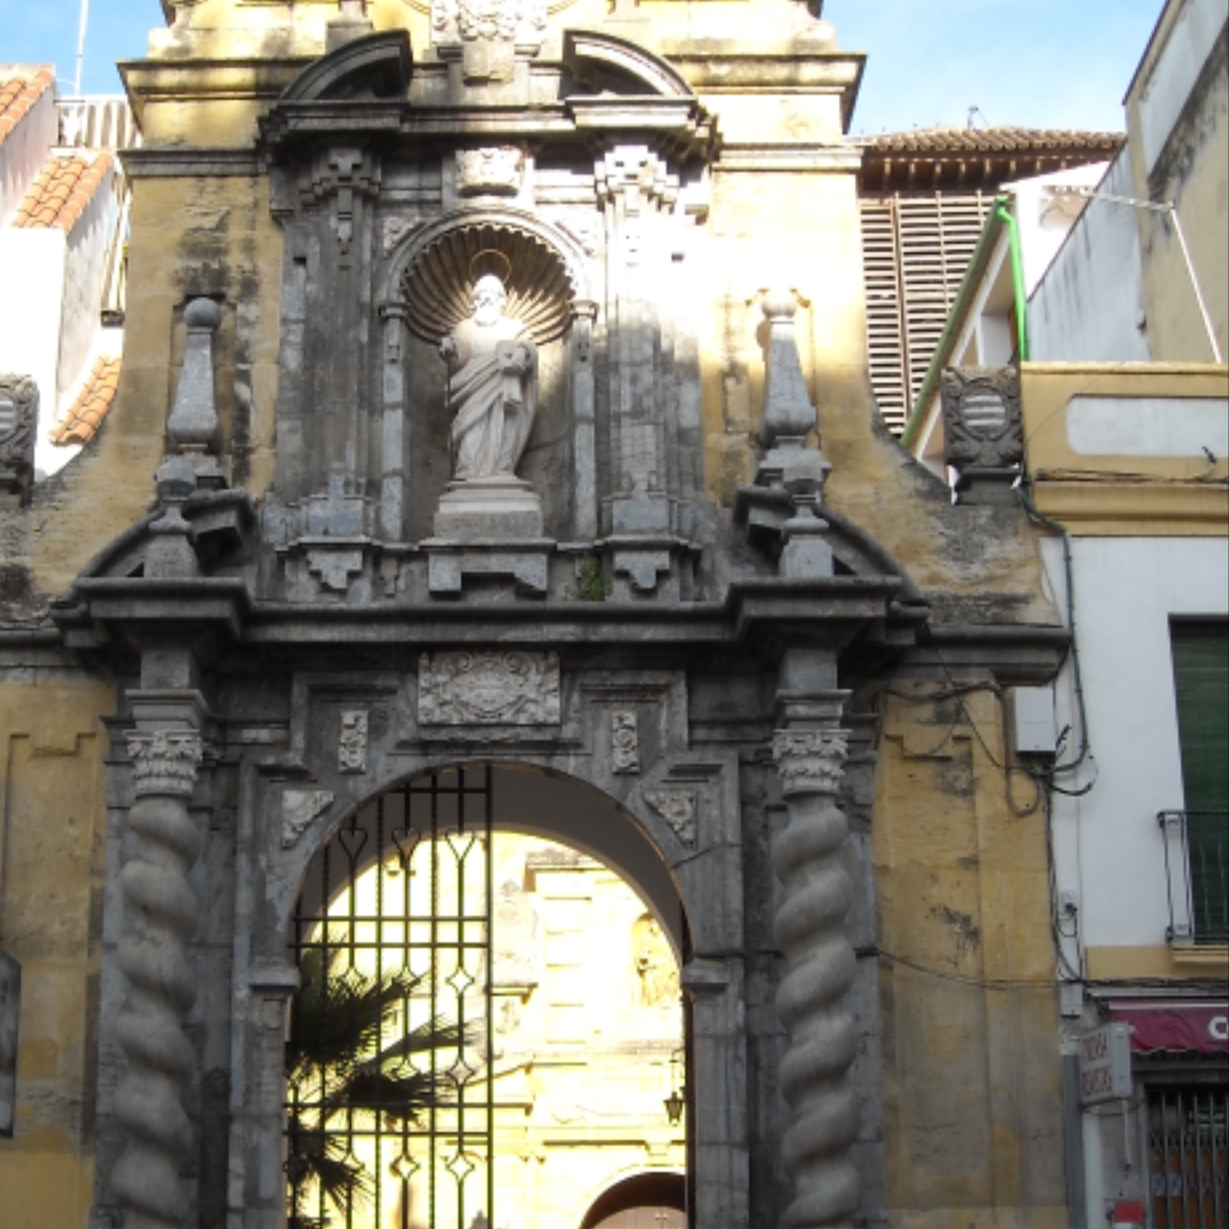arco-medio-punto: (268, 750, 714, 1025)
fronton-partido: (60, 481, 923, 639), (267, 29, 714, 134)
